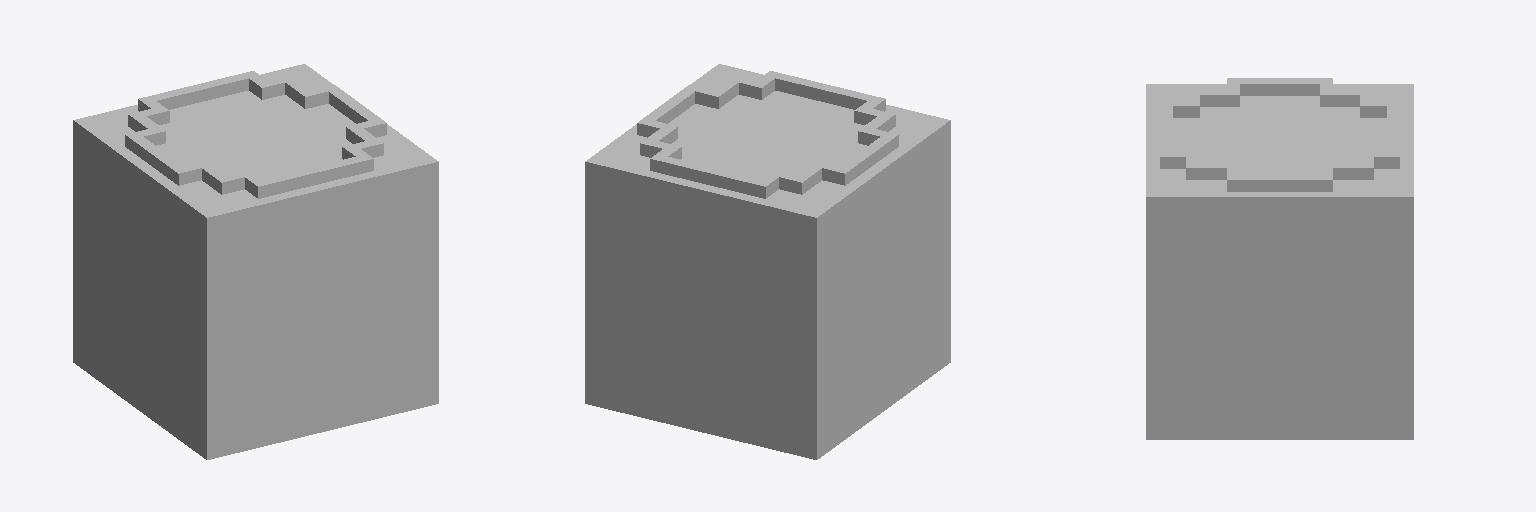
File: teleporter.obj
3 views of the same model, side by side, from view 1: azimuth 30°, elevation 25°; view 2: azimuth 150°, elevation 25°; view 3: azimuth 270°, elevation 25° (orthographic).
Visible parts, largest first — view 1: object 1; view 2: object 1; view 3: object 1.
Boxes of the visible parts, box(x1,y1,x2,y2) form: object 1: box(73, 64, 438, 459); object 1: box(585, 64, 950, 459); object 1: box(1146, 78, 1413, 439).
Bounding box in the file's own units: 2 × 2.1 × 2.